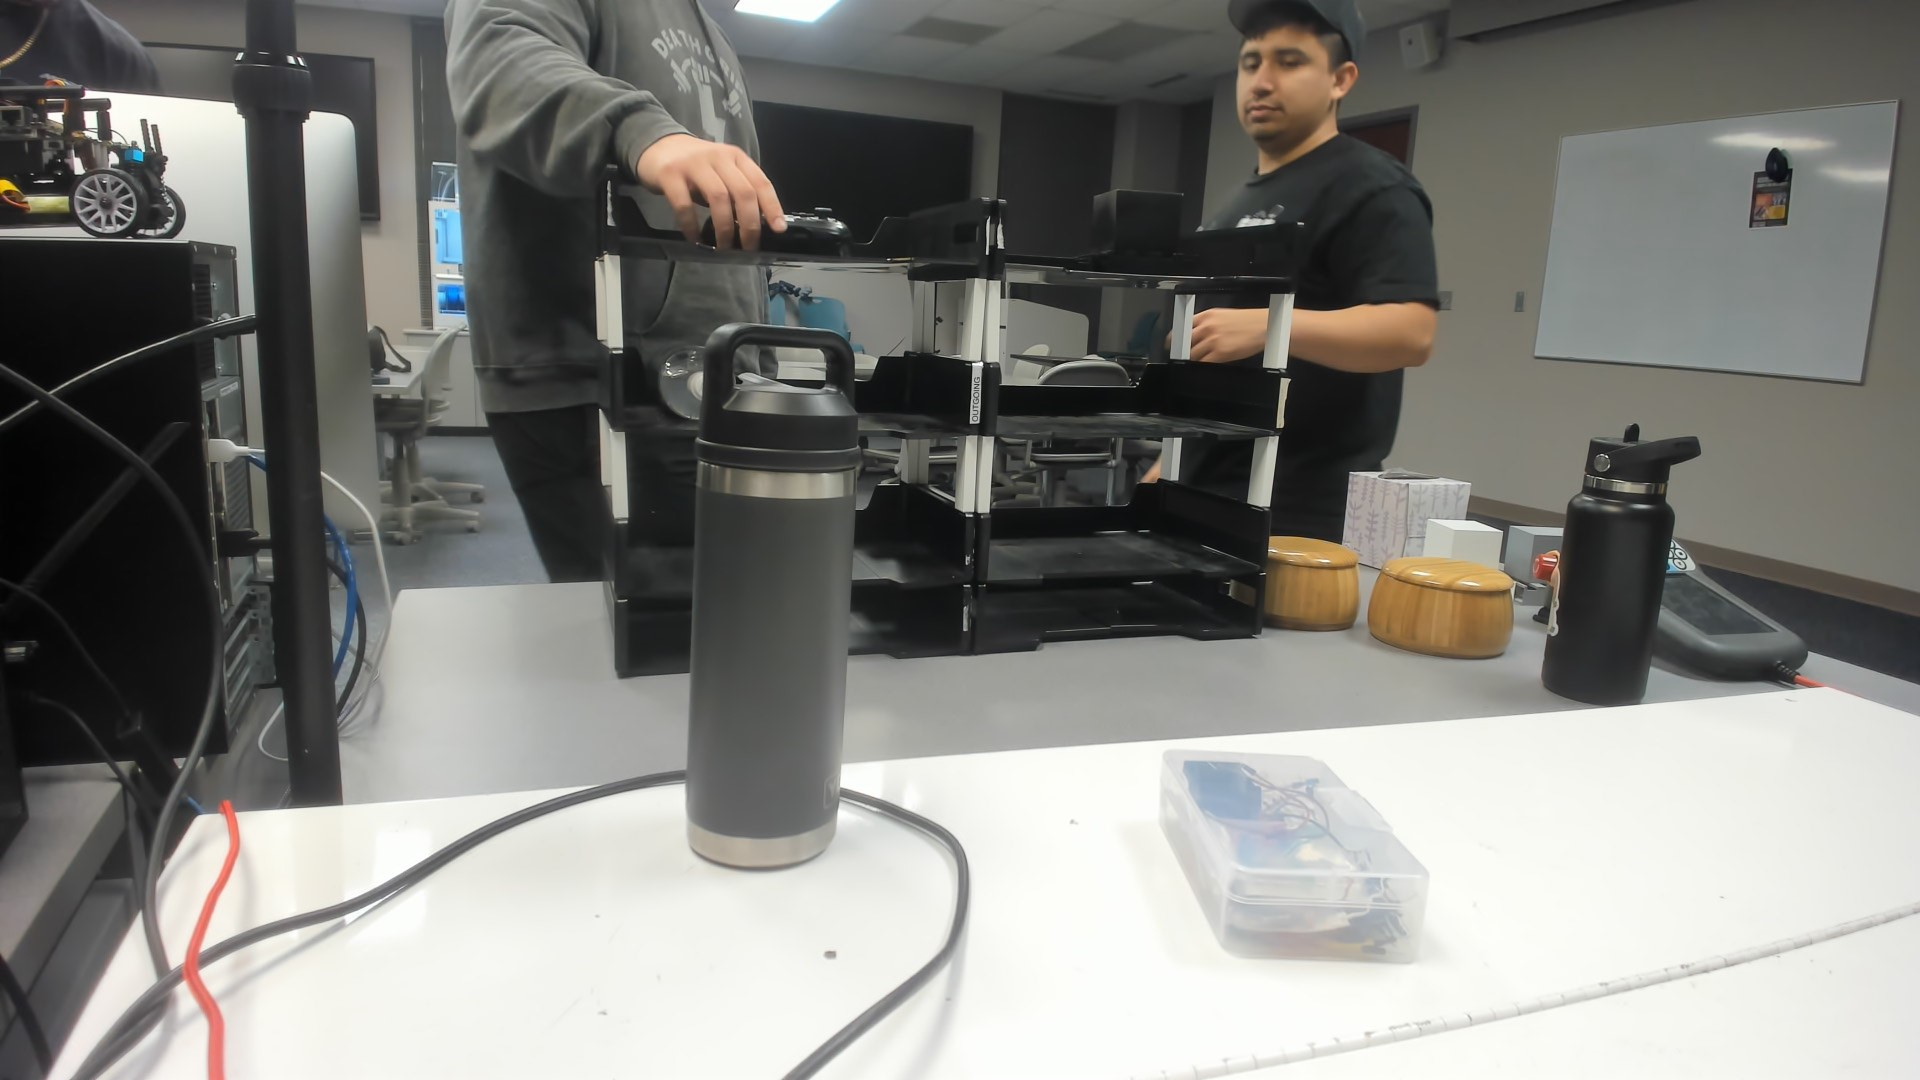black pallet: (1071, 183, 1212, 280)
grey pallet: (1505, 524, 1568, 601)
white pallet: (1418, 512, 1505, 567)
